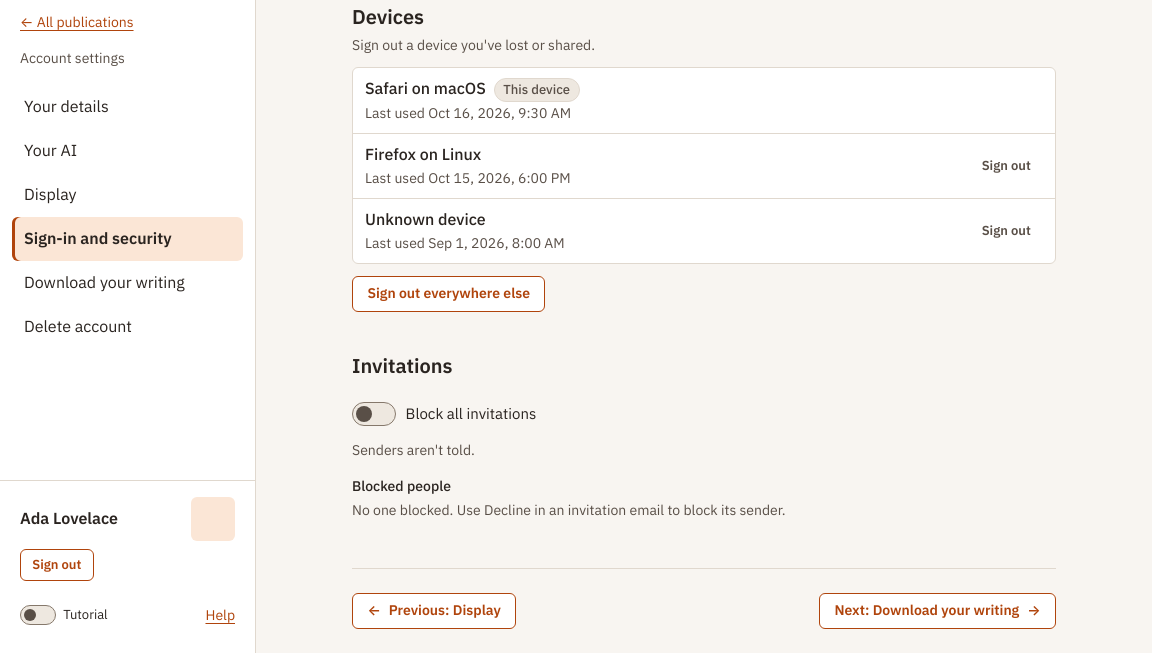
Devices › asks before signing out everywhere else, then says how many it ended
This screenshot has width=1152, height=653.
(page scrolled)
Click the button "Sign out everywhere else". click: (449, 294)
box: left=352, top=276, right=546, bottom=312
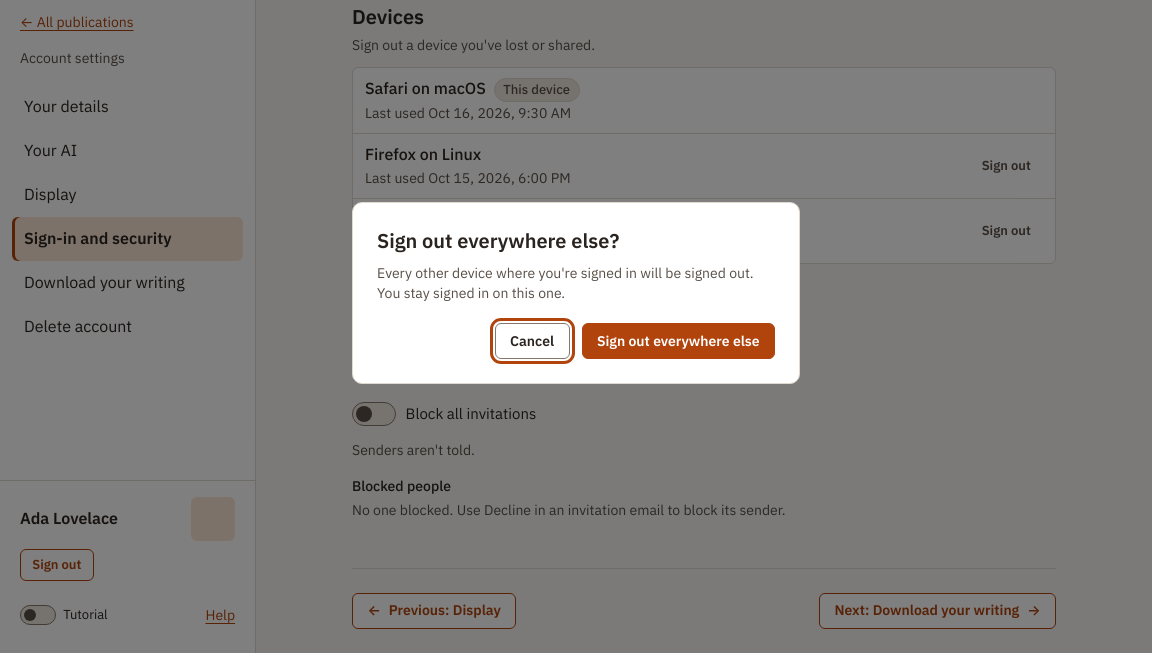
Click the button "Cancel". click: (532, 341)
box: left=495, top=323, right=570, bottom=359
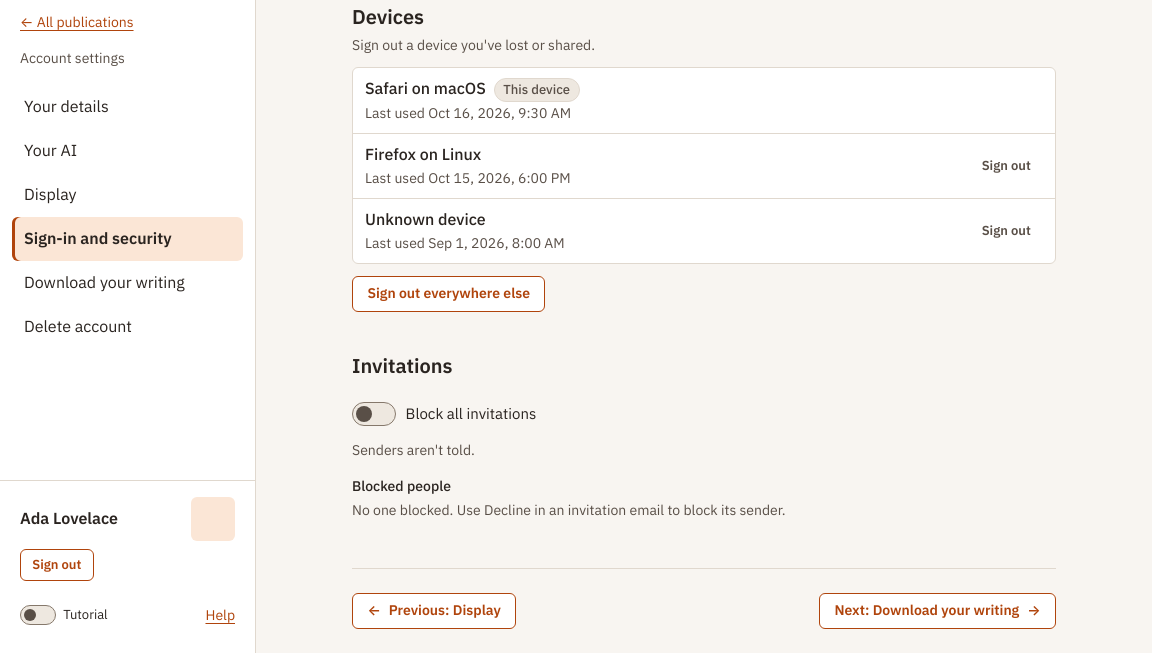
Expected: the dialog is gone
Click the button "Sign out everywhere else". click: (449, 294)
box: left=352, top=276, right=546, bottom=312
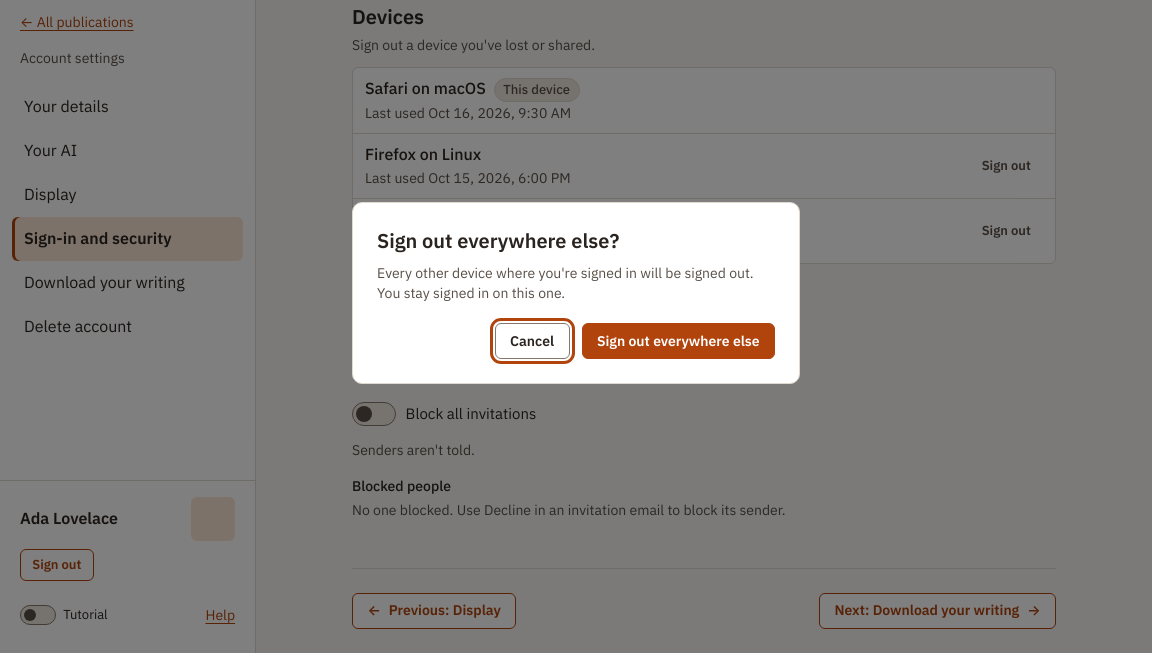
Click the button "Sign out everywhere else". click: (678, 341)
box: left=582, top=323, right=775, bottom=359
(page scrolled)
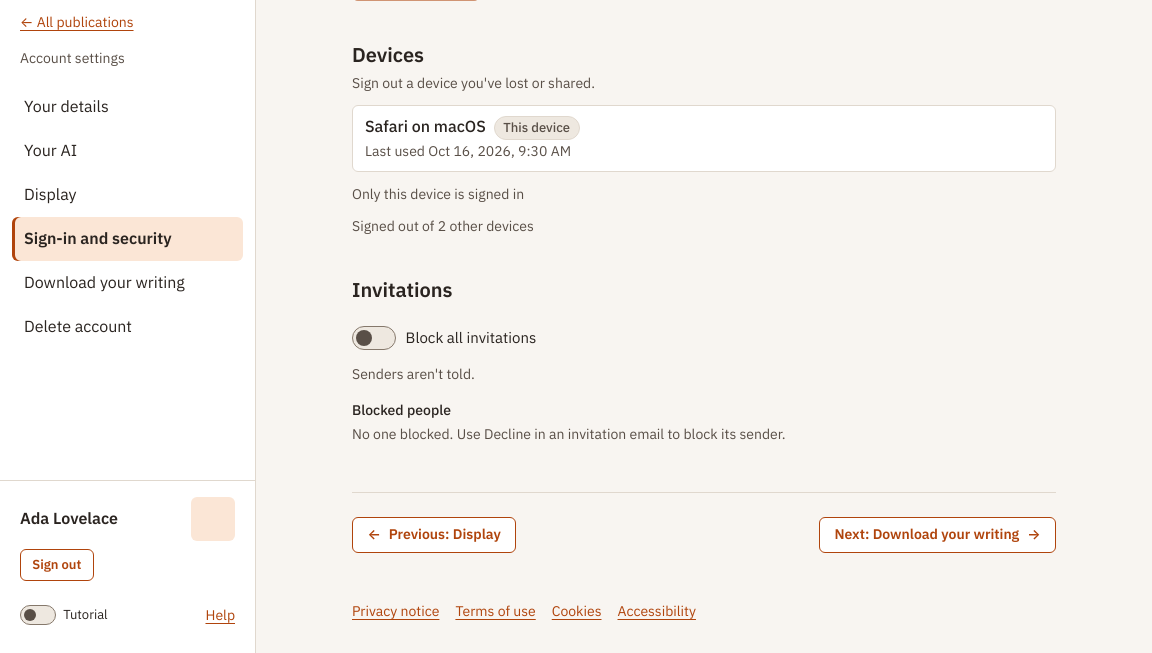
Expected: the dialog is gone
Expected: the text "Signed out of 2 other devices" is shown, left=352, top=217, right=534, bottom=235
Expected: the text "Only this device is signed in" is shown, left=352, top=185, right=524, bottom=203
